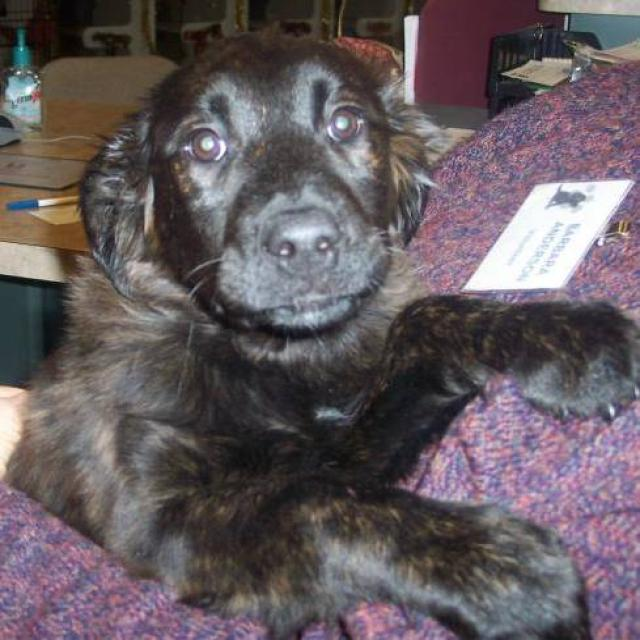dog: (1, 23, 639, 639)
